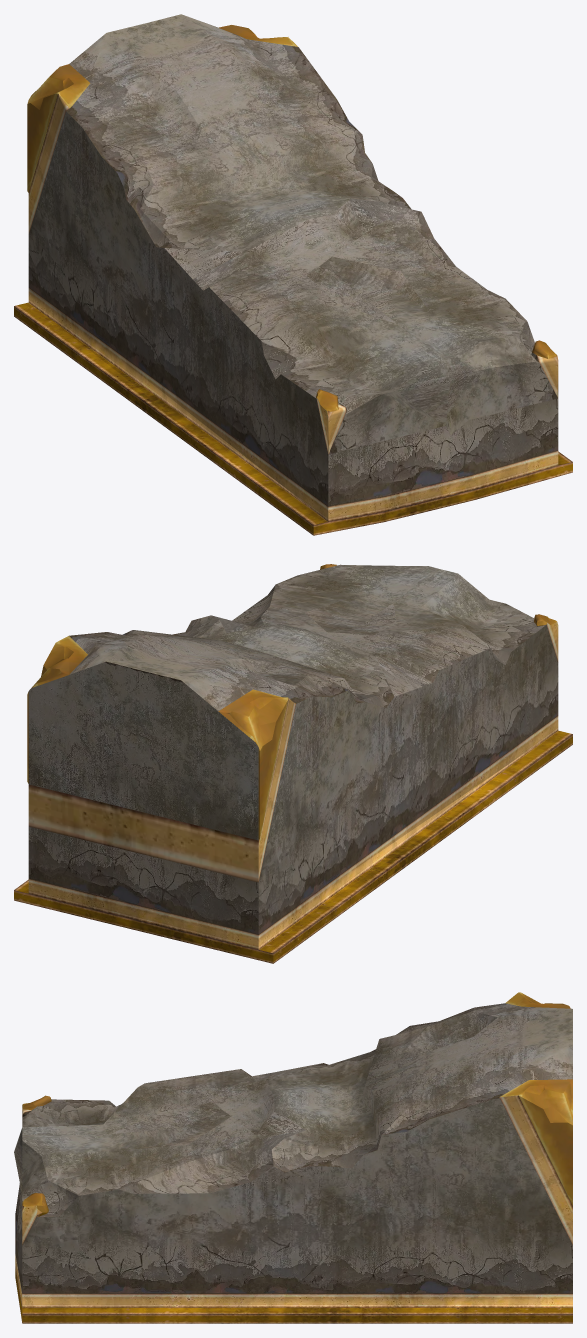
3 renders of one model, top to bottom at view 1: azimuth 30°, elevation 25°; view 2: azimuth 150°, elevation 25°; view 3: azimuth 270°, elevation 25°, orthographic. The views are drawn at different scales.
Visible parts, largest first — view 1: SM_DK_Crumbled_WallTop_04_LOD0; view 2: SM_DK_Crumbled_WallTop_04_LOD0; view 3: SM_DK_Crumbled_WallTop_04_LOD0.
Part boxes in pixels (<box>): SM_DK_Crumbled_WallTop_04_LOD0: <box>14,14,572,535</box>; SM_DK_Crumbled_WallTop_04_LOD0: <box>14,564,572,963</box>; SM_DK_Crumbled_WallTop_04_LOD0: <box>14,992,572,1323</box>.
Bounding box in the file's own units: 2 × 1.93 × 4.06.
2 materials, 2 textured.
